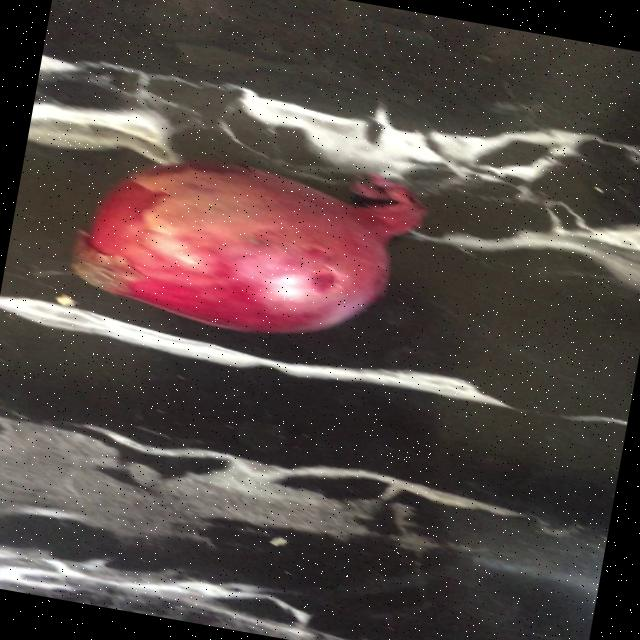Onion: (70, 162, 425, 333)
